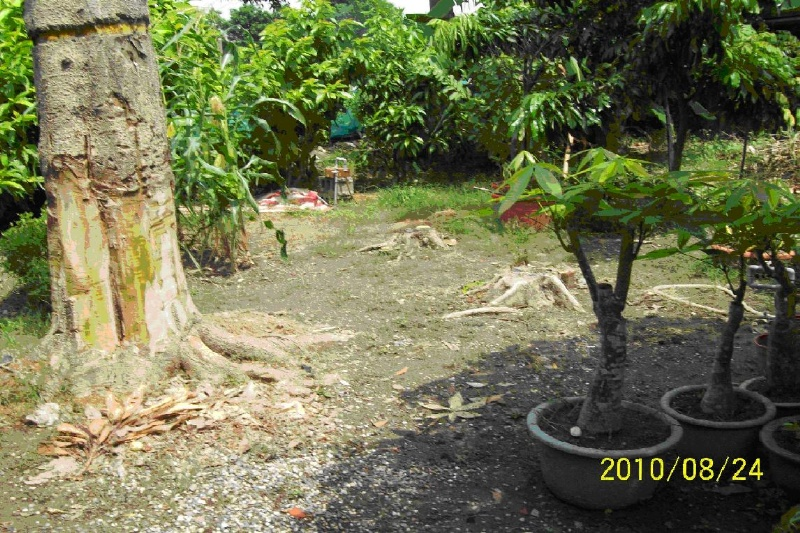plastic_bag: (261, 188, 326, 212)
